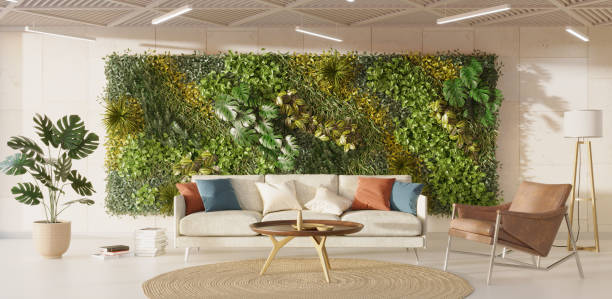chair: (441, 178, 587, 285)
floor lamp: (561, 105, 604, 253)
large plant: (1, 112, 100, 261)
sofa: (172, 171, 428, 262)
table: (248, 218, 365, 284)
